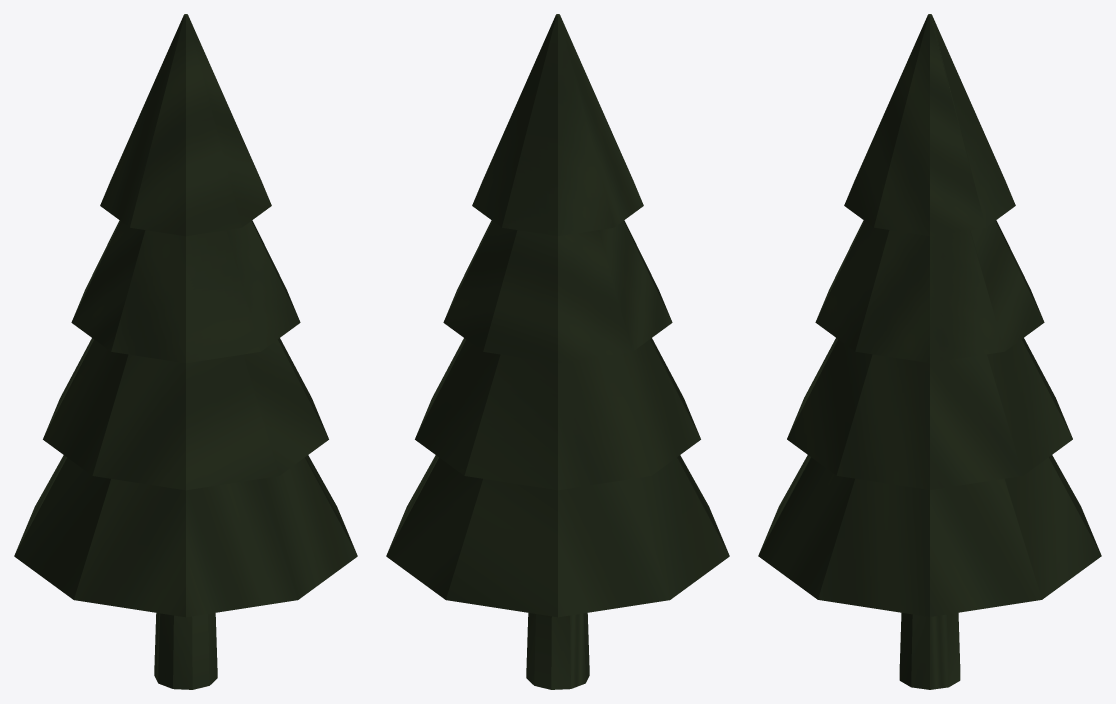
Rendered from env_tree_urban_oak_a.glb.
3 renders of one model, left to right at view 1: azimuth 30°, elevation 25°; view 2: azimuth 150°, elevation 25°; view 3: azimuth 270°, elevation 25°, orthographic.
Parts seen in each view (by area): view 1: env_tree_urban_oak_a; view 2: env_tree_urban_oak_a; view 3: env_tree_urban_oak_a.
Boxes of the visible parts, x1=… form: env_tree_urban_oak_a: x1=14, y1=14, x2=357, y2=689; env_tree_urban_oak_a: x1=386, y1=14, x2=729, y2=689; env_tree_urban_oak_a: x1=758, y1=14, x2=1101, y2=689.
Size of the model in its own units: 2.33 by 5.02 by 2.36.
1 material, 1 textured.
